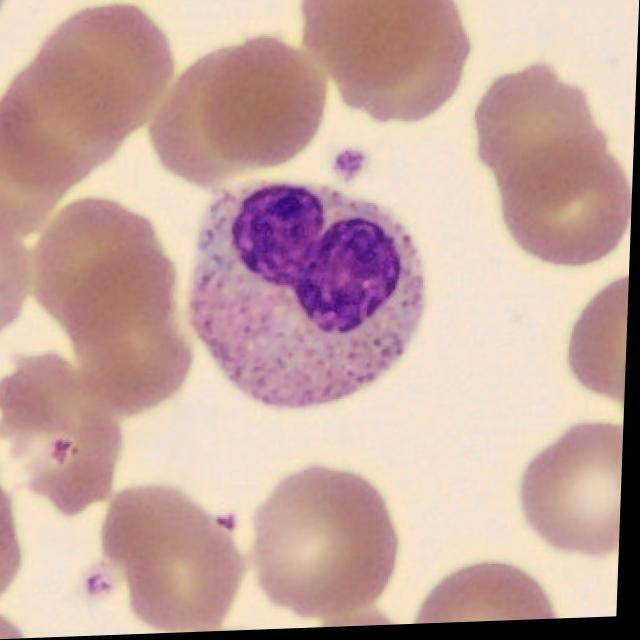Neutrofilo segmentado: (191, 183, 429, 410)
